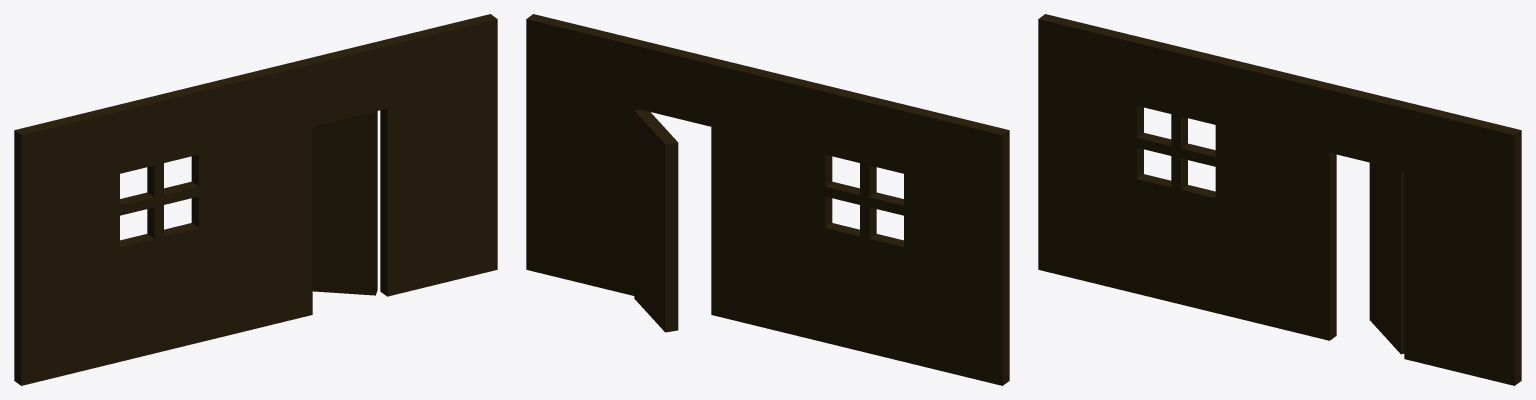
Rendered from Wall.fbx.
3 views of the same model, side by side, from view 1: azimuth 30°, elevation 25°; view 2: azimuth 150°, elevation 25°; view 3: azimuth 330°, elevation 25° (orthographic).
Visible parts, largest first — view 1: Cube.001, Cube; view 2: Cube.001, Cube; view 3: Cube.001, Cube.
Part boxes in pixels (x1,y1,x2,y2): Cube.001: [14, 14, 497, 385]; Cube: [312, 111, 377, 295]; Cube.001: [526, 14, 1009, 385]; Cube: [634, 109, 678, 332]; Cube.001: [1038, 14, 1521, 385]; Cube: [1369, 162, 1404, 354].
Bounding box in the file's own units: 795 × 400 × 106.
